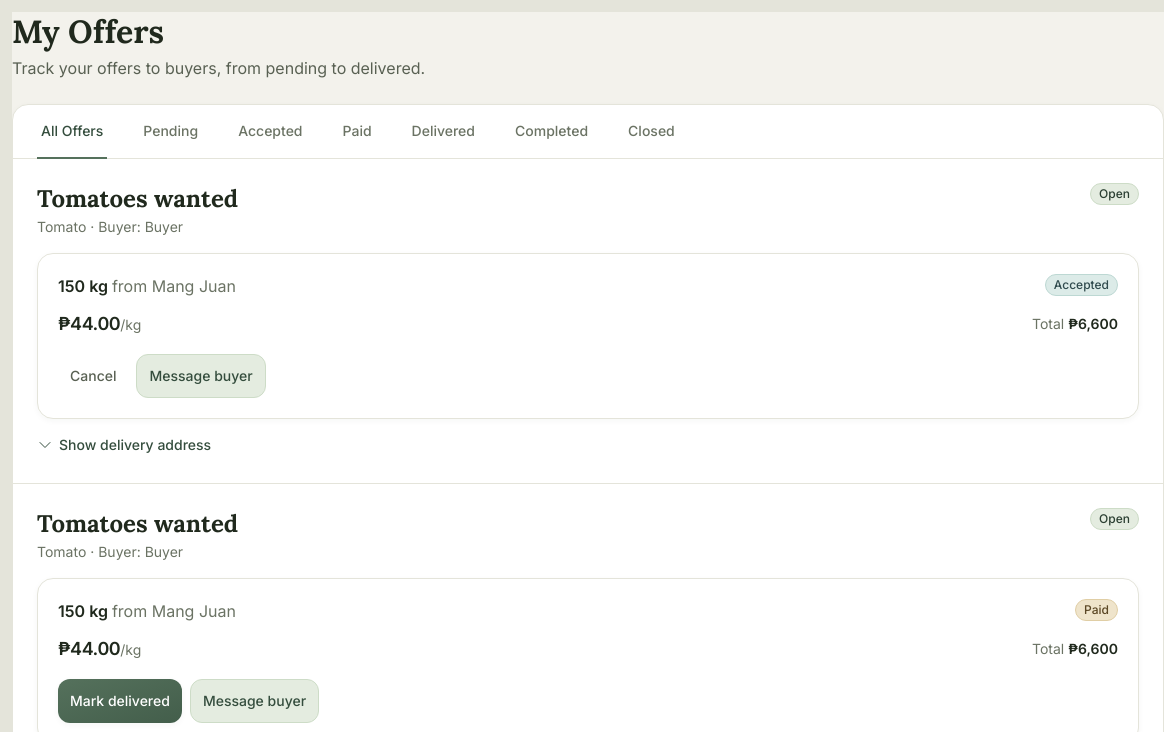
Test case: MyOffersPage tabs and address collapse › keeps each delivery address collapsed until its own toggle is clicked
Expected: the text "123 Farm Rd, Cabanatuan" is not shown
Click the button with aria-label "Show delivery address" at [124, 445], box [37, 435, 211, 455]
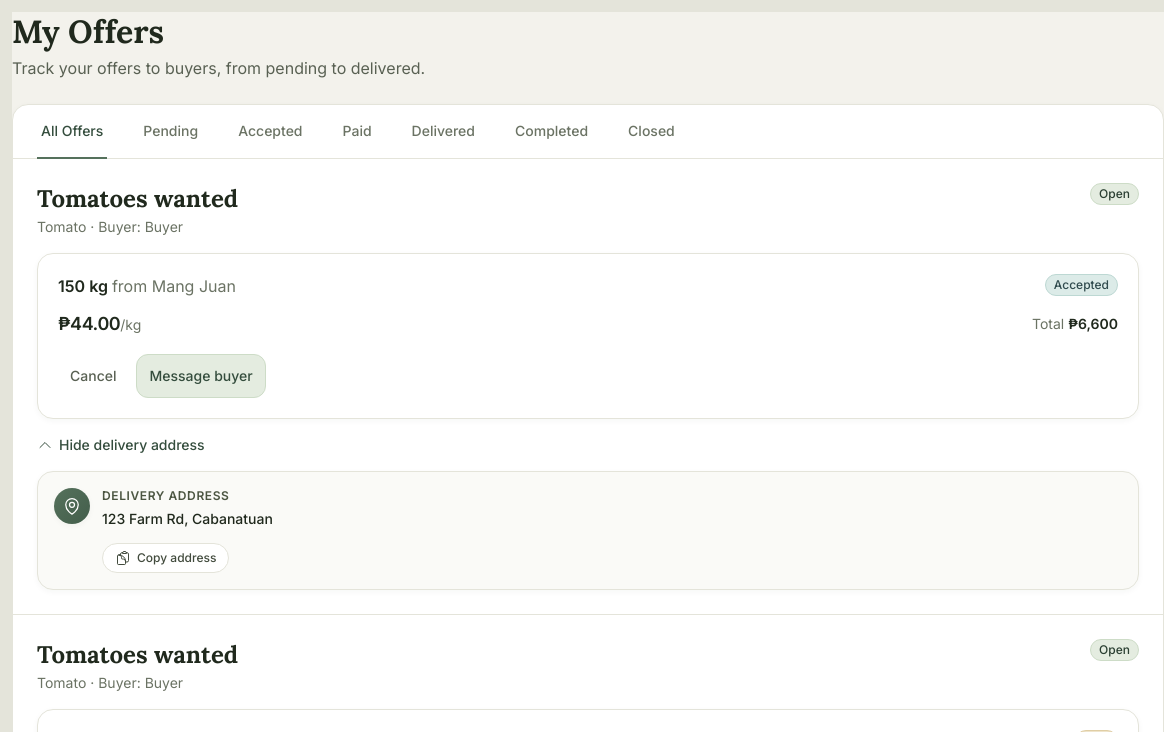
Expected: the text "123 Farm Rd, Cabanatuan" is shown, [102, 510, 273, 527]
Expected: the number of buttons named "Hide delivery address" is 1
Click the button with aria-label "Hide delivery address" at [121, 445], box [37, 435, 205, 455]
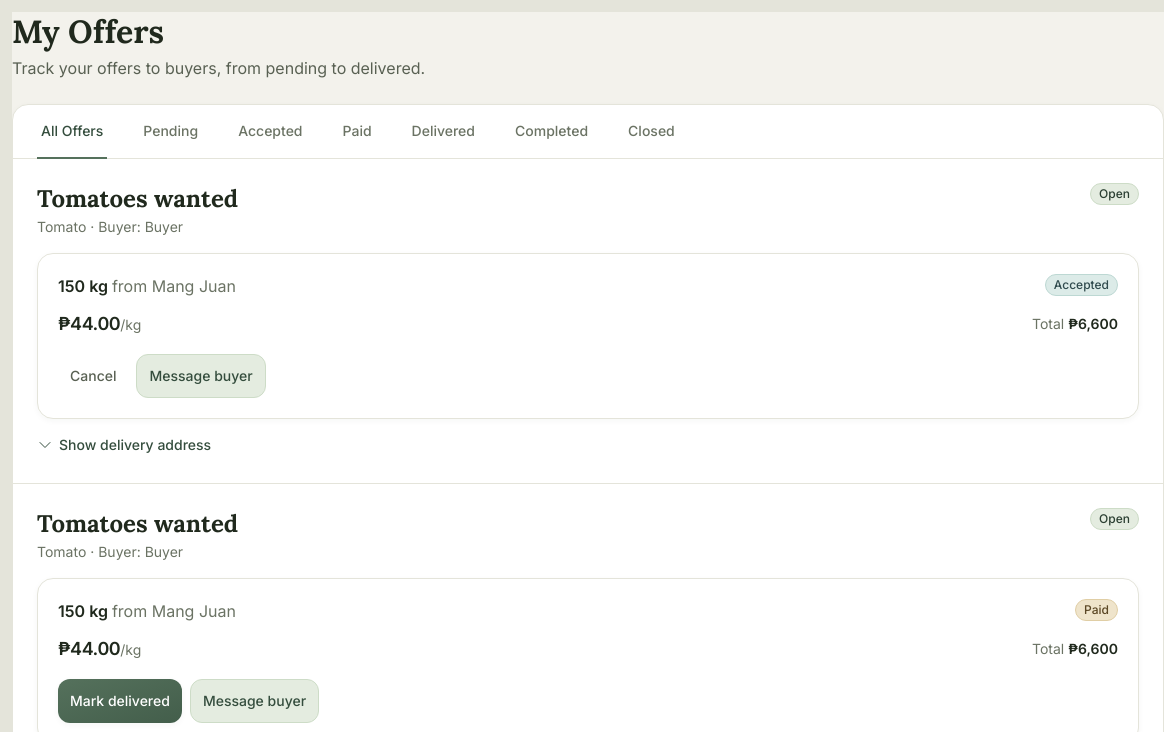
Expected: the text "123 Farm Rd, Cabanatuan" is gone
